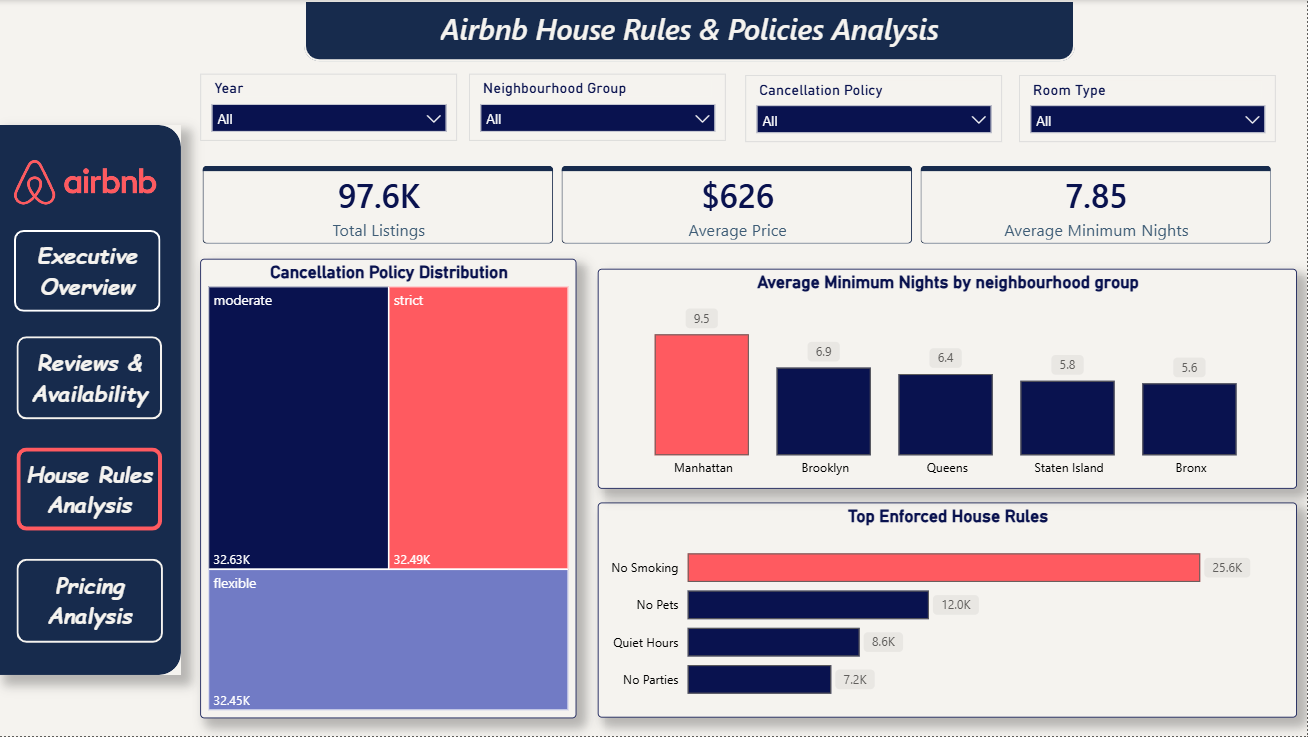

The page's visual inventory and layout, read from the dashboard file:
{"tool":"powerbi","page":{"name":"House Rules Analysis","canvas":[1280,720],"ordinal":1},"visuals":[{"type":"slicer","fields":{"Values":["airbnb_cleaned.room type"]},"box":[998,72.6,251.6,65.8],"z":0,"group":"g2"},{"type":"group","id":"g1","title":"Group 1","box":[0,122.5,178,538],"z":0},{"type":"slicer","fields":{"Values":["airbnb_cleaned.cancellation_policy"]},"box":[730.5,72.6,251.6,65.8],"z":1000,"group":"g2"},{"type":"actionButton","box":[14.9,225.5,143.3,80],"z":1000},{"type":"slicer","fields":{"Values":["airbnb_cleaned.neighbourhood group"]},"box":[460,71.9,251.6,65.8],"z":2000,"group":"g2"},{"type":"actionButton","box":[17.5,546.2,143.3,82.2],"z":2000},{"type":"slicer","fields":{"Values":["Calendar.Year"]},"box":[197.1,71.9,251.6,65.8],"z":3000,"group":"g2"},{"type":"actionButton","box":[17.5,328.8,142.5,81.2],"z":3000},{"type":"actionButton","box":[17.5,437.5,142.5,81.2],"z":4000},{"type":"actionButton","box":[298.6,0,754.3,60],"z":5000},{"type":"shape","box":[0,122.5,178,538],"z":6000,"group":"g1"},{"type":"cardVisual","fields":{"Data":["Measures_table.Total Listings","Measures_table.Average Price","Measures_table.Average Minimum Nights"]},"box":[187.5,150,1071.2,100],"z":6000},{"type":"group","id":"g2","title":"Group 2","box":[197.1,71.9,1052.5,66.2],"z":7000},{"type":"image","box":[14.4,147.5,139.6,63.2],"z":7000,"group":"g1"},{"type":"treemap","title":"Cancellation Policy Distribution","fields":{"Group":["airbnb_cleaned.cancellation_policy"],"Values":["CountNonNull(airbnb_cleaned.id)"]},"box":[197,252.7,368,449.6],"z":8000},{"type":"clusteredBarChart","title":"Top Enforced House Rules","fields":{"Category":["House_Rules_Summary.Attribute"],"Y":["CountNonNull(House_Rules_Summary.id)"]},"box":[585.5,491.8,683.9,210.8],"z":9000},{"type":"clusteredColumnChart","fields":{"Category":["airbnb_cleaned.neighbourhood group"],"Y":["Measures_table.Average Minimum Nights"]},"box":[585.5,262.3,683.9,215.5],"z":10000}]}

Visuals, with their boxes in screenshot pixels (x1, y1, x2, y2), scaled from the page's 1280x720 canvas onto the 1308x737 screenshot:
slicer - airbnb_cleaned.room type: <box>1020,74,1277,142</box>
"Group 1" group: <box>0,125,182,676</box>
slicer - airbnb_cleaned.cancellation_policy: <box>746,74,1004,142</box>
actionButton: <box>15,231,162,313</box>
slicer - airbnb_cleaned.neighbourhood group: <box>470,74,727,141</box>
actionButton: <box>18,559,164,643</box>
slicer - Calendar.Year: <box>201,74,459,141</box>
actionButton: <box>18,337,164,420</box>
actionButton: <box>18,448,164,531</box>
actionButton: <box>305,0,1076,61</box>
shape: <box>0,125,182,676</box>
cardVisual - Measures_table.Total Listings x Measures_table.Average Price: <box>192,154,1286,256</box>
"Group 2" group: <box>201,74,1277,141</box>
image: <box>15,151,157,216</box>
"Cancellation Policy Distribution" treemap: <box>201,259,577,719</box>
"Top Enforced House Rules" clusteredBarChart: <box>598,503,1297,719</box>
clusteredColumnChart - airbnb_cleaned.neighbourhood group x Measures_table.Average Minimum Nights: <box>598,268,1297,489</box>
